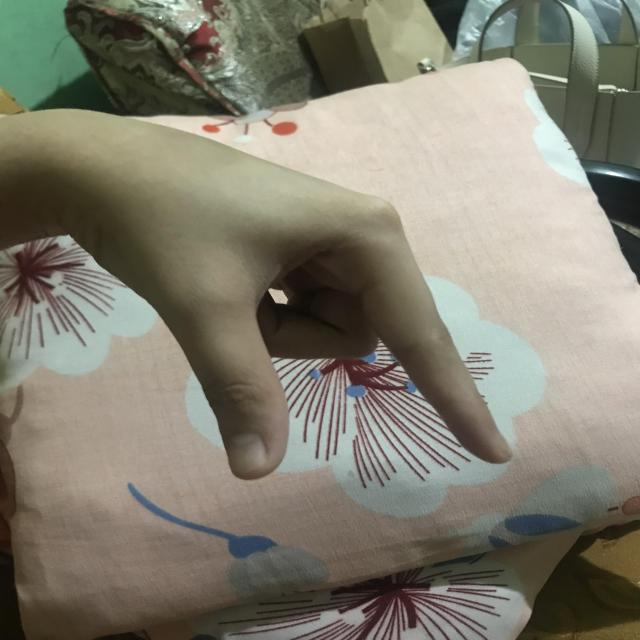Q: (80, 106, 520, 487)
